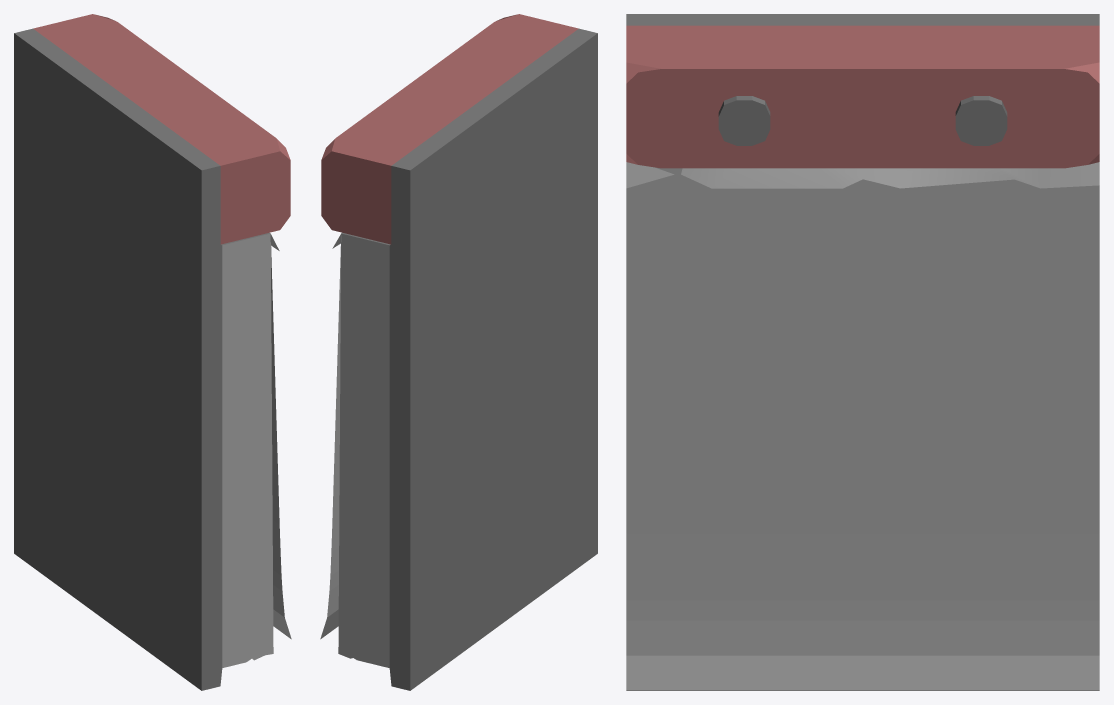
Rendered from Calender_Before.fbx.
The picture shows the model from 3 angles, left to right: view 1: azimuth 30°, elevation 25°; view 2: azimuth 150°, elevation 25°; view 3: azimuth 270°, elevation 25°; orthographic projection. The views are drawn at different scales.
Parts seen in each view (by area): view 1: Calender_After; view 2: Calender_After; view 3: Calender_After.
Part boxes in pixels (x1,y1,x2,y2): Calender_After: (14, 14, 291, 690); Calender_After: (320, 14, 597, 690); Calender_After: (626, 14, 1099, 690).
Size of the model in its own units: 0.1318 by 0.6811 by 0.4447.
